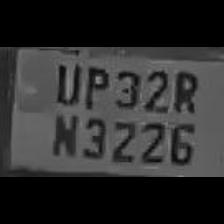2: (107, 114, 136, 162), (135, 116, 164, 164), (140, 65, 170, 111)
3: (108, 65, 140, 109), (78, 111, 106, 160)
6: (164, 118, 196, 168)
N: (48, 108, 78, 158)
P: (80, 60, 110, 110)
R: (168, 66, 200, 114)
U: (50, 58, 80, 106)
